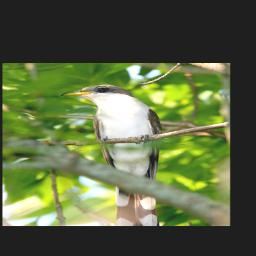Cuckoo: (58, 83, 165, 226)
